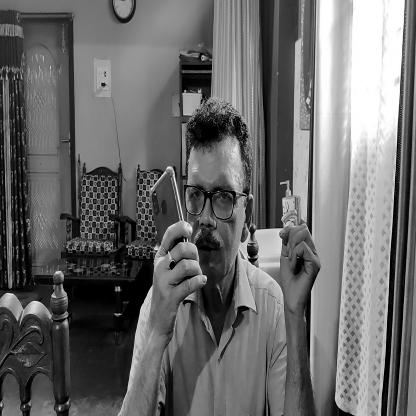Distracted: (193, 106, 252, 276)
